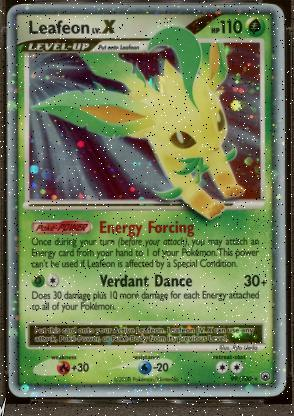Card: (6, 0, 286, 402)
